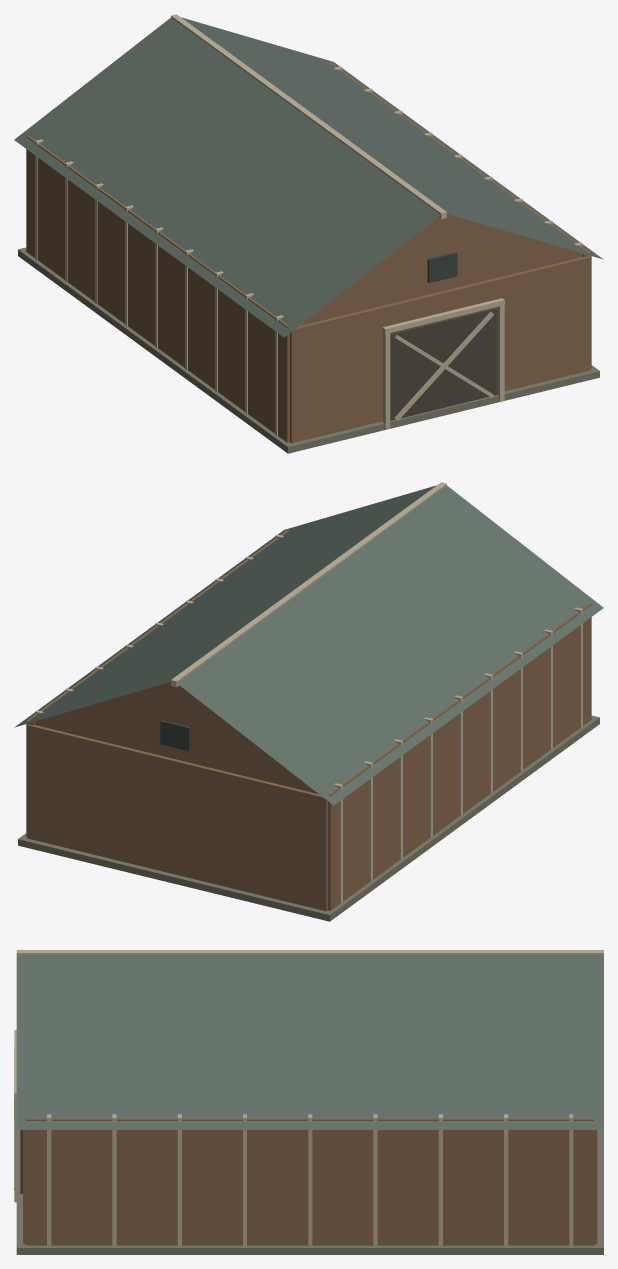
Rendered from barn.glb.
3 views of the same model, one above another, from view 1: azimuth 30°, elevation 25°; view 2: azimuth 150°, elevation 25°; view 3: azimuth 270°, elevation 25° (orthographic). The views are drawn at different scales.
Visible parts, largest first — view 1: barn; view 2: barn; view 3: barn.
Boxes of the visible parts, box(x1,y1,x2,y2) form: barn: box(14, 14, 603, 453); barn: box(14, 482, 603, 921); barn: box(14, 950, 603, 1254).
Size of the model in its own units: 12.3 by 7.46 by 18.08.
